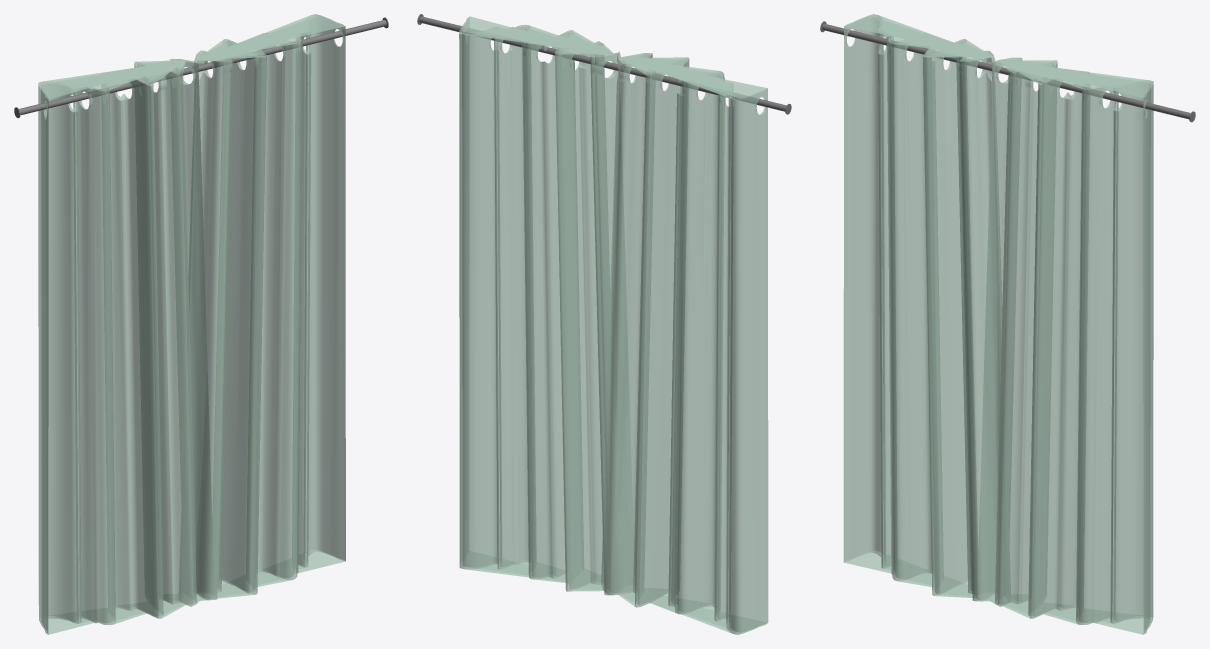
The model's file is curtain_showercurtains.fbx.
3 renders of one model, left to right at view 1: azimuth 30°, elevation 25°; view 2: azimuth 150°, elevation 25°; view 3: azimuth 330°, elevation 25°, orthographic.
Visible parts, largest first — view 1: curtain_shower_blinds, curtain_shower_rod; view 2: curtain_shower_blinds, curtain_shower_rod; view 3: curtain_shower_blinds, curtain_shower_rod.
Boxes of the visible parts, bbox=[...] form: curtain_shower_blinds: bbox=[38, 14, 345, 634]; curtain_shower_rod: bbox=[14, 17, 388, 117]; curtain_shower_blinds: bbox=[459, 16, 768, 634]; curtain_shower_rod: bbox=[417, 14, 791, 114]; curtain_shower_blinds: bbox=[843, 14, 1153, 634]; curtain_shower_rod: bbox=[820, 21, 1195, 122].
Bounding box in the file's own units: 5.91 × 8.19 × 0.9095.
